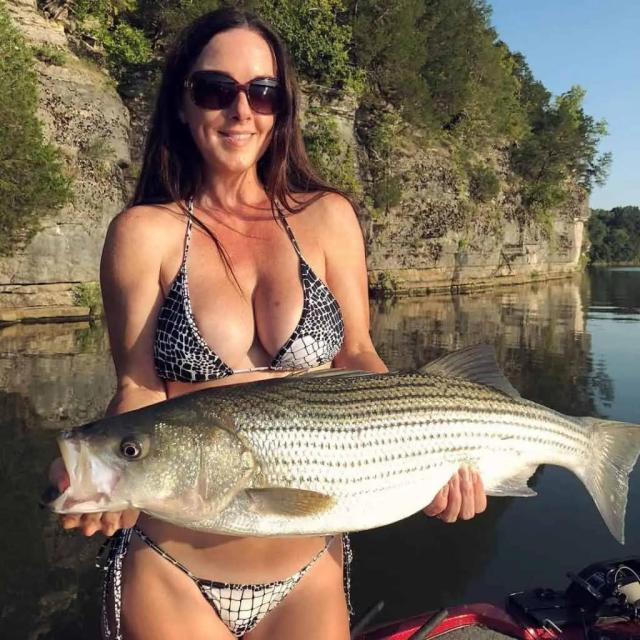Bass - Striped: (52, 349, 639, 542)
